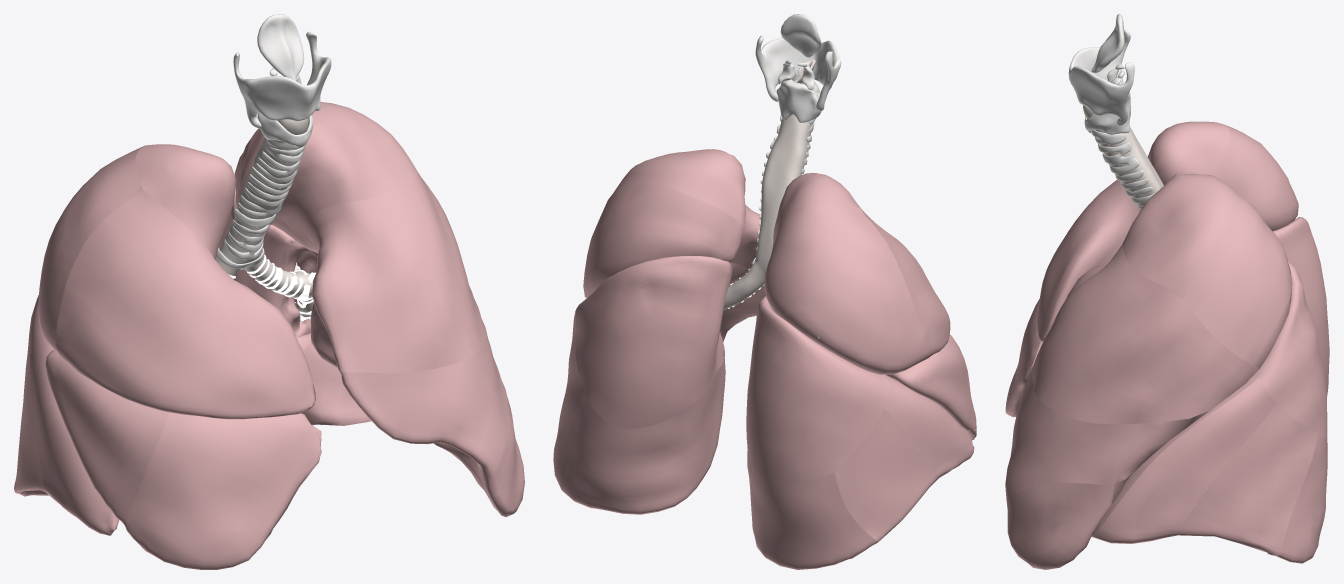
The model's file is respiratory-meshopt.glb.
3 views of the same model, side by side, from view 1: azimuth 30°, elevation 25°; view 2: azimuth 150°, elevation 25°; view 3: azimuth 270°, elevation 25° (orthographic). The views are drawn at different scales.
Visible parts, largest first — view 1: VH_M_right_anterior_bronchopulmonary_segment, VH_M_left_anterior_bronchopulmonary_segment, VH_M_right_medial_bronchopulmonary_segment, VH_M_left_lingula_superior_bronchopulmonary_segment, VH_M_left_apical_bronchopulmonary_segment, VH_M_right_lateral_bronchopulmonary_segment, VH_M_right_apical_bronchopulmonary_segment, VH_M_right_posterior_bronchopulmonary_segment, VH_M_right_anterior_basal_bronchopulmonary_segment, VH_M_thyroid_cartilage, VH_M_tracheal_cartilage, VH_M_left_lingula_inferior_bronchopulmonary_segment (+10 smaller); view 2: VH_M_left_superior_bronchopulmonary_segment, VH_M_right_posterior_bronchopulmonary_segment, VH_M_right_superior_bronchopulmonary_segment, VH_M_left_posetrior_basal_bronchopulmonary_segment, VH_M_left_posterior_bronchopulmonary_segment, VH_M_right_posterior_basal_bronchopulmonary_segment, VH_M_right_lateral_basal_bronchopulmonary_segment, VH_M_left_apical_bronchopulmonary_segment, VH_M_right_anterior_basal_bronchopulmonary_segment, VH_M_trachea, VH_M_right_lateral_bronchopulmonary_segment, VH_M_right_anterior_bronchopulmonary_segment (+8 smaller); view 3: VH_M_left_anterior_bronchopulmonary_segment, VH_M_left_lateral_basal_bronchopulmonary_segment, VH_M_left_posterior_bronchopulmonary_segment, VH_M_left_anterior_basal_bronchopulmonary_segment, VH_M_left_lingula_superior_bronchopulmonary_segment, VH_M_left_apical_bronchopulmonary_segment, VH_M_left_lingula_inferior_bronchopulmonary_segment, VH_M_right_anterior_bronchopulmonary_segment, VH_M_left_superior_bronchopulmonary_segment, VH_M_right_posterior_bronchopulmonary_segment, VH_M_right_apical_bronchopulmonary_segment, VH_M_left_posetrior_basal_bronchopulmonary_segment (+8 smaller).
Part boxes in pixels (box(x1,y1,x2,y2)): VH_M_right_anterior_bronchopulmonary_segment: box(56, 189, 315, 419); VH_M_left_anterior_bronchopulmonary_segment: box(307, 172, 486, 372); VH_M_right_medial_bronchopulmonary_segment: box(125, 412, 321, 569); VH_M_left_lingula_superior_bronchopulmonary_segment: box(338, 328, 507, 477); VH_M_left_apical_bronchopulmonary_segment: box(240, 102, 417, 240); VH_M_right_lateral_bronchopulmonary_segment: box(45, 349, 169, 525); VH_M_right_apical_bronchopulmonary_segment: box(135, 144, 235, 259); VH_M_right_posterior_bronchopulmonary_segment: box(38, 146, 143, 355); VH_M_right_anterior_basal_bronchopulmonary_segment: box(30, 342, 119, 535); VH_M_thyroid_cartilage: box(233, 31, 331, 128); VH_M_tracheal_cartilage: box(224, 139, 306, 259); VH_M_left_lingula_inferior_bronchopulmonary_segment: box(311, 318, 524, 517); VH_M_left_superior_bronchopulmonary_segment: box(575, 256, 732, 428); VH_M_right_posterior_bronchopulmonary_segment: box(764, 205, 927, 374); VH_M_right_superior_bronchopulmonary_segment: box(746, 296, 889, 483); VH_M_left_posetrior_basal_bronchopulmonary_segment: box(553, 359, 725, 514); VH_M_left_posterior_bronchopulmonary_segment: box(585, 172, 744, 294); VH_M_right_posterior_basal_bronchopulmonary_segment: box(747, 450, 876, 569); VH_M_right_lateral_basal_bronchopulmonary_segment: box(835, 408, 938, 542); VH_M_left_apical_bronchopulmonary_segment: box(624, 149, 745, 227); VH_M_right_anterior_basal_bronchopulmonary_segment: box(884, 374, 974, 477); VH_M_trachea: box(755, 59, 819, 278); VH_M_right_lateral_bronchopulmonary_segment: box(886, 334, 975, 431); VH_M_right_anterior_bronchopulmonary_segment: box(861, 209, 950, 358); VH_M_left_anterior_bronchopulmonary_segment: box(1032, 243, 1259, 424); VH_M_left_lateral_basal_bronchopulmonary_segment: box(1178, 404, 1317, 556); VH_M_left_posterior_bronchopulmonary_segment: box(1184, 200, 1292, 368); VH_M_left_anterior_basal_bronchopulmonary_segment: box(1091, 377, 1276, 543); VH_M_left_lingula_superior_bronchopulmonary_segment: box(1005, 365, 1254, 499); VH_M_left_apical_bronchopulmonary_segment: box(1123, 173, 1247, 299); VH_M_left_lingula_inferior_bronchopulmonary_segment: box(1006, 472, 1133, 569); VH_M_right_anterior_bronchopulmonary_segment: box(1036, 180, 1139, 341); VH_M_left_superior_bronchopulmonary_segment: box(1256, 260, 1327, 438); VH_M_right_posterior_bronchopulmonary_segment: box(1213, 124, 1298, 231); VH_M_right_apical_bronchopulmonary_segment: box(1138, 121, 1230, 211); VH_M_left_posetrior_basal_bronchopulmonary_segment: box(1276, 434, 1327, 563).
Size of the model in its own units: 0.2594 by 0.3146 by 0.1897.
